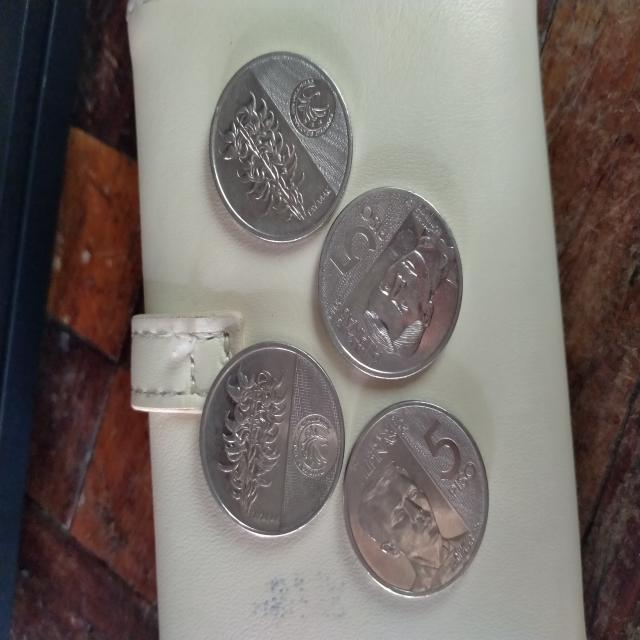5_New_Back: (208, 91, 319, 232), (210, 354, 286, 529)
5_New_Front: (322, 193, 392, 278), (413, 412, 478, 500)
